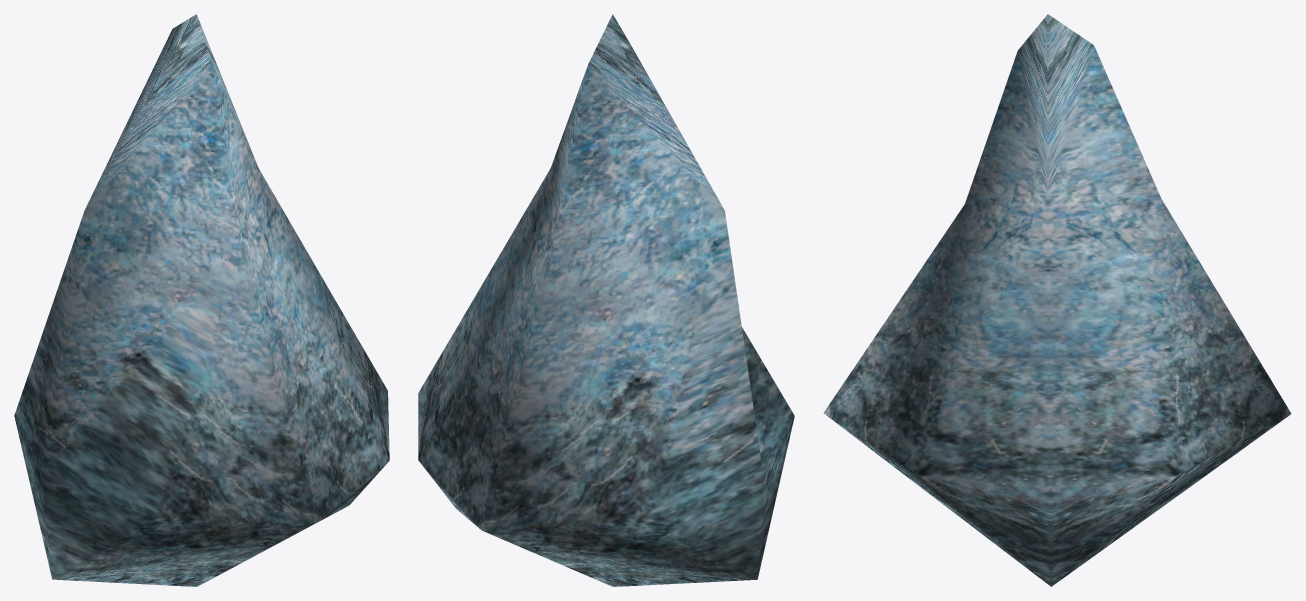
File: thm_all_cave_stalagmite_ice_c2_l2.fbx
The picture shows the model from 3 angles, left to right: view 1: azimuth 30°, elevation 25°; view 2: azimuth 150°, elevation 25°; view 3: azimuth 270°, elevation 25°; orthographic projection. The views are drawn at different scales.
Parts seen in each view (by area): view 1: mesh_node; view 2: mesh_node; view 3: mesh_node.
Part boxes in pixels (x1,y1,x2,y2): mesh_node: (14,14,389,586); mesh_node: (418,14,794,586); mesh_node: (823,14,1291,586).
Bounding box in the file's own units: 3.08 × 4.89 × 3.83.
